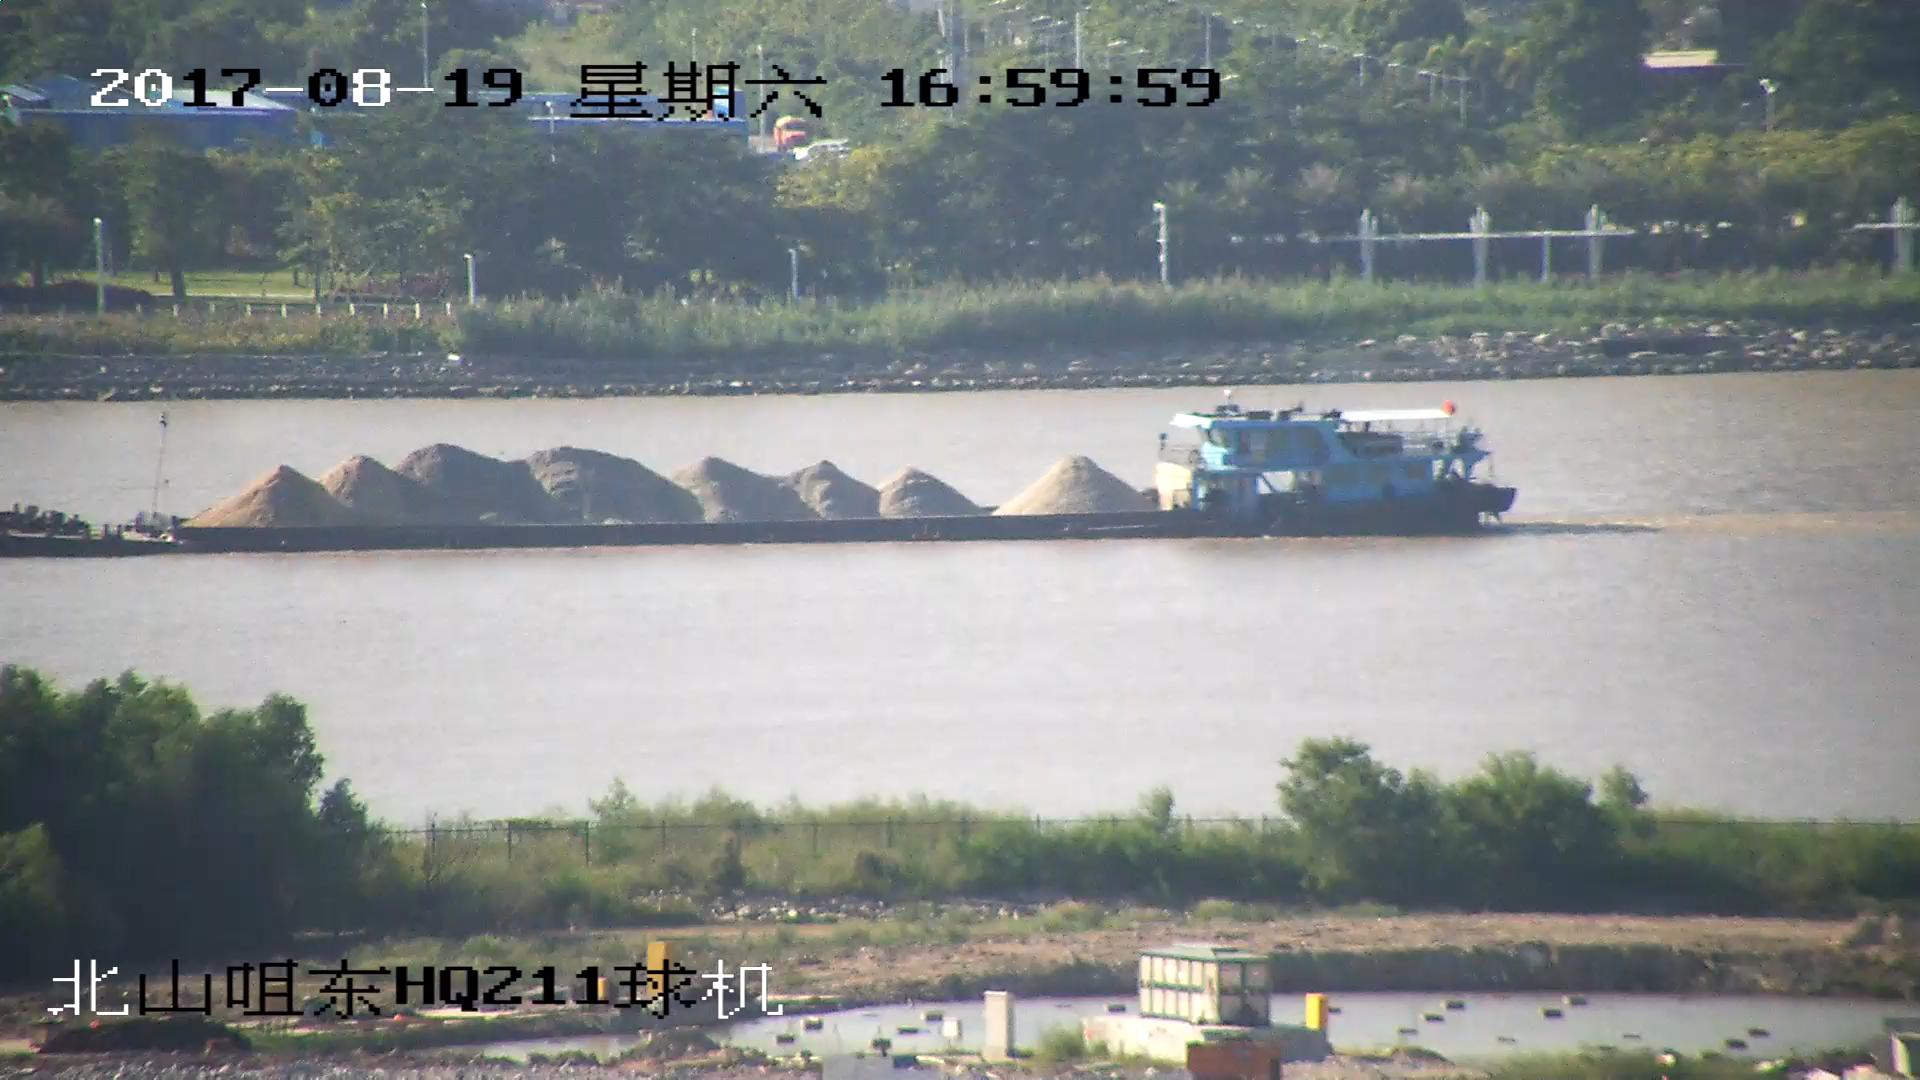ore carrier: (1, 394, 1524, 554)
